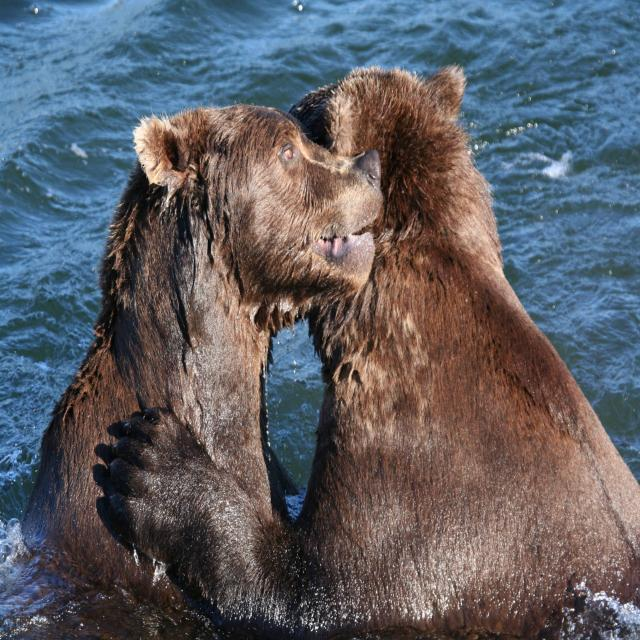bear face: (108, 61, 637, 634), (38, 104, 381, 586)
